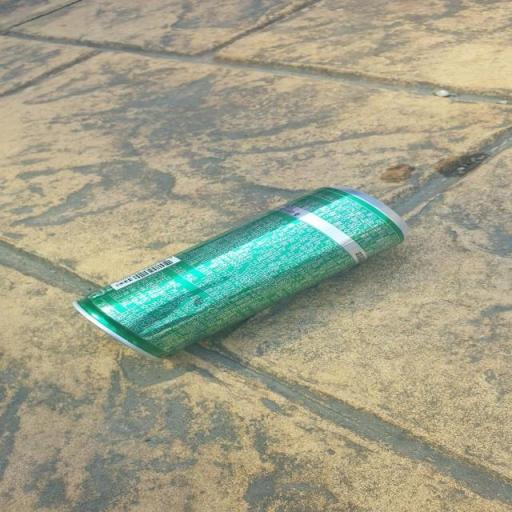metal: (64, 174, 430, 364)
